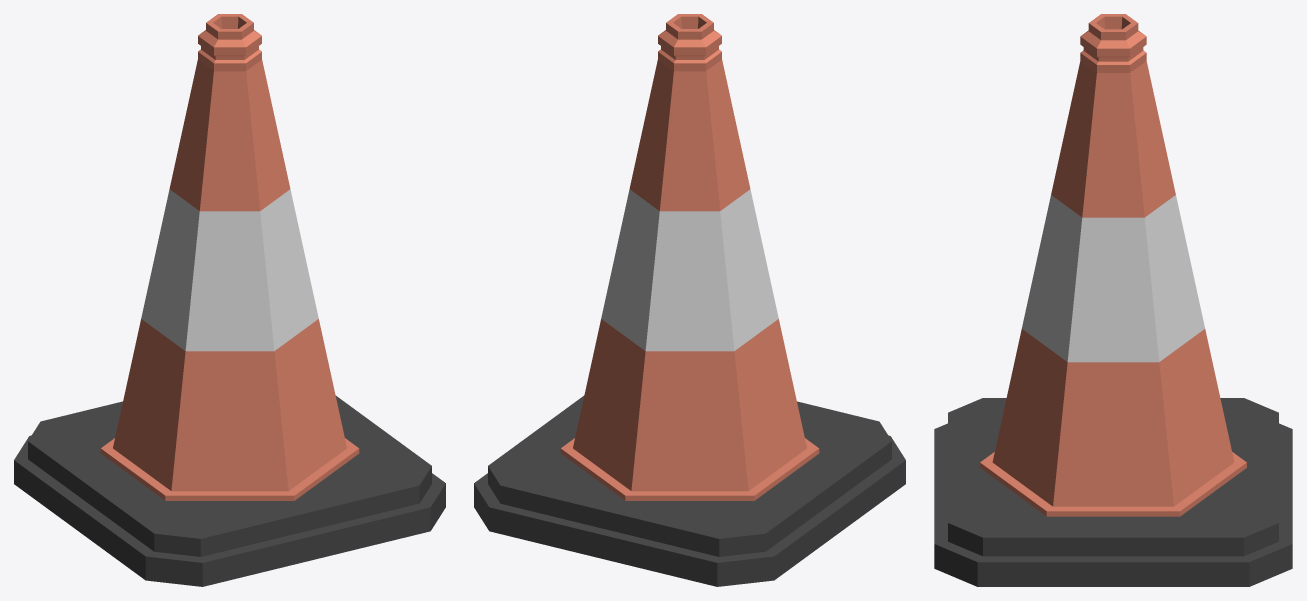
File: cone_cube.005_lev3.glb
The picture shows the model from 3 angles, left to right: view 1: azimuth 30°, elevation 25°; view 2: azimuth 150°, elevation 25°; view 3: azimuth 270°, elevation 25°; orthographic projection. The views are drawn at different scales.
Visible parts, largest first — view 1: cone_cube.005_lev3; view 2: cone_cube.005_lev3; view 3: cone_cube.005_lev3.
Part boxes in pixels (x1,y1,x2,y2): cone_cube.005_lev3: (14,14,445,586); cone_cube.005_lev3: (474,14,905,586); cone_cube.005_lev3: (934,14,1292,586).
Bounding box in the file's own units: 1.08 × 1.62 × 1.08.
